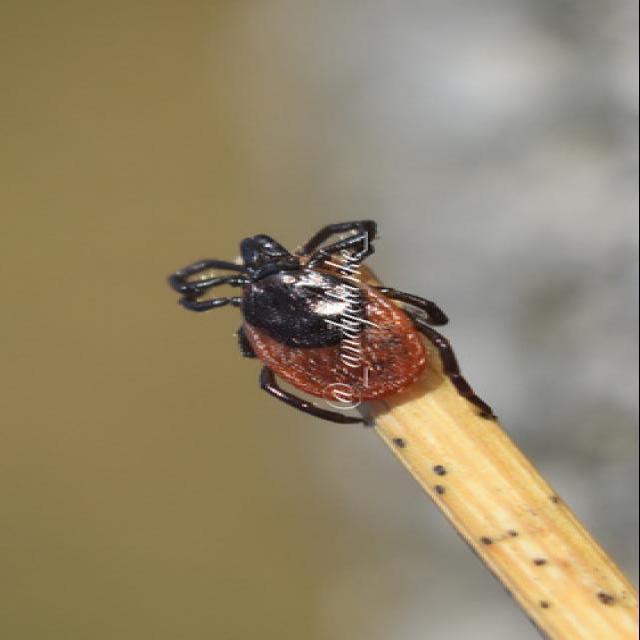Ixodes Ricinus-F: (169, 220, 494, 425)
